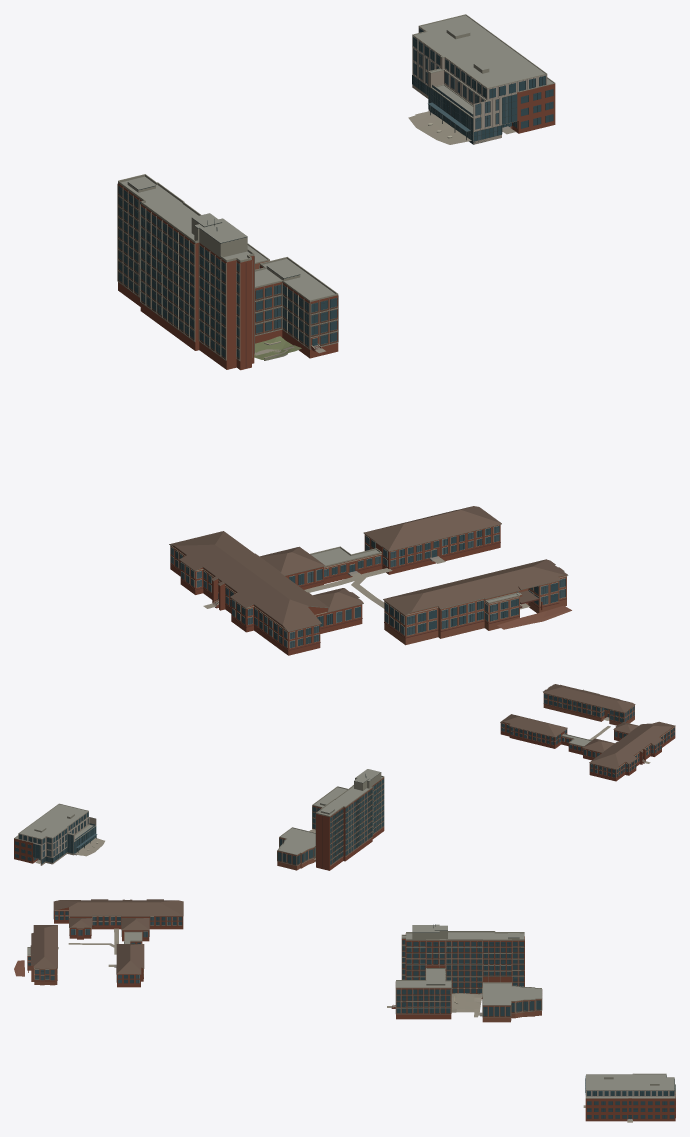
File: site.glb
3 views of the same model, one above another, from view 1: azimuth 30°, elevation 25°; view 2: azimuth 150°, elevation 25°; view 3: azimuth 270°, elevation 25° (orthographic). The views are drawn at different scales.
Visible parts, largest first — view 1: roof-8f611273, roof-74ecc113, context-b0103, roof-5bbb5fd1, plc-lokey-tykeson-grounds; view 2: roof-8f611273, roof-74ecc113, context-b0103, roof-5bbb5fd1, plc-lokey-tykeson-grounds; view 3: roof-8f611273, roof-74ecc113, context-b0103, roof-5bbb5fd1, plc-lokey-tykeson-grounds.
Boxes of the visible parts, box(x1,y1,x2,y2) form: roof-8f611273: box(117, 174, 338, 370); roof-74ecc113: box(169, 506, 501, 655); context-b0103: box(412, 14, 555, 144); roof-5bbb5fd1: box(383, 559, 568, 645); plc-lokey-tykeson-grounds: box(203, 111, 571, 629); roof-8f611273: box(277, 769, 384, 870); roof-74ecc113: box(500, 714, 675, 781); context-b0103: box(14, 803, 97, 865); roof-5bbb5fd1: box(543, 684, 635, 725); plc-lokey-tykeson-grounds: box(35, 717, 650, 863); roof-8f611273: box(395, 924, 542, 1022); roof-74ecc113: box(53, 899, 183, 987); context-b0103: box(585, 1073, 675, 1121); roof-5bbb5fd1: box(27, 925, 57, 985); plc-lokey-tykeson-grounds: box(14, 928, 632, 1122).
Size of the model in its own units: 276 by 43.79 by 370.
